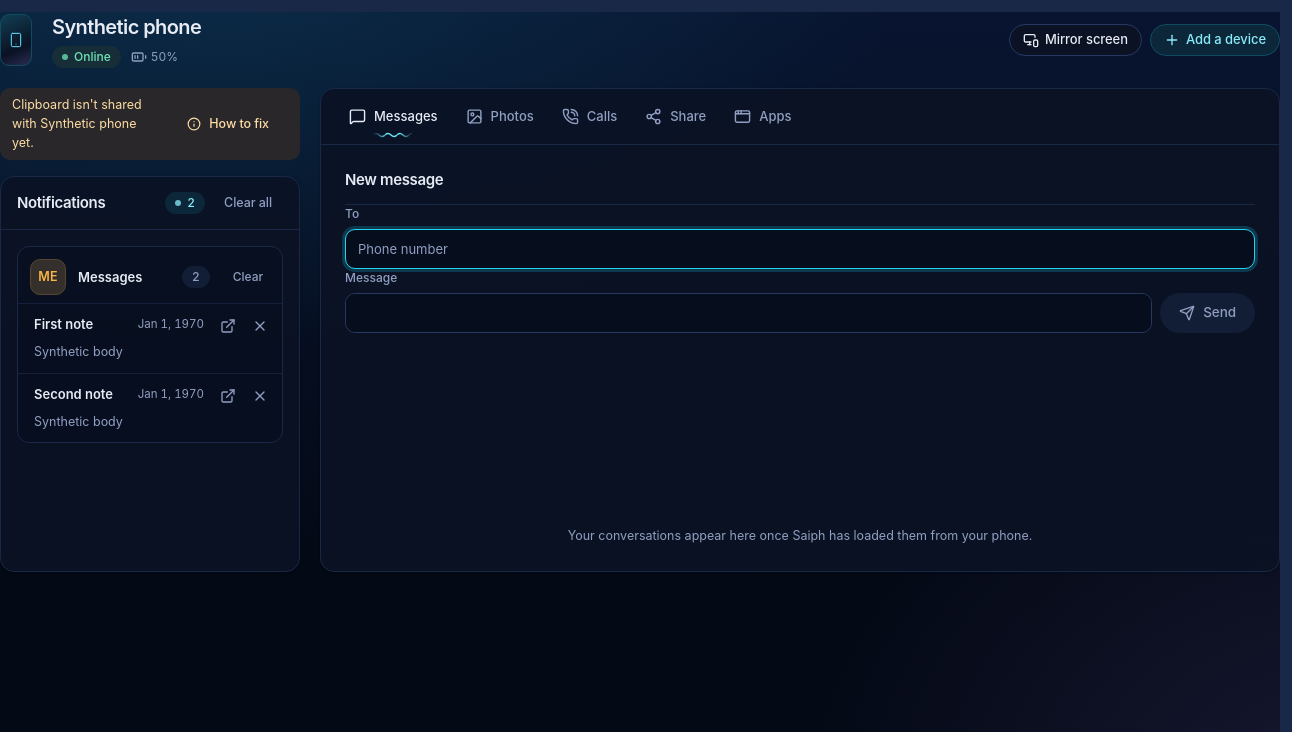
Test: Dismissing notifications › waits for Undo before dismissing on every device
Click the button named "Dismiss First note": click(260, 326) [244,310,276,342]
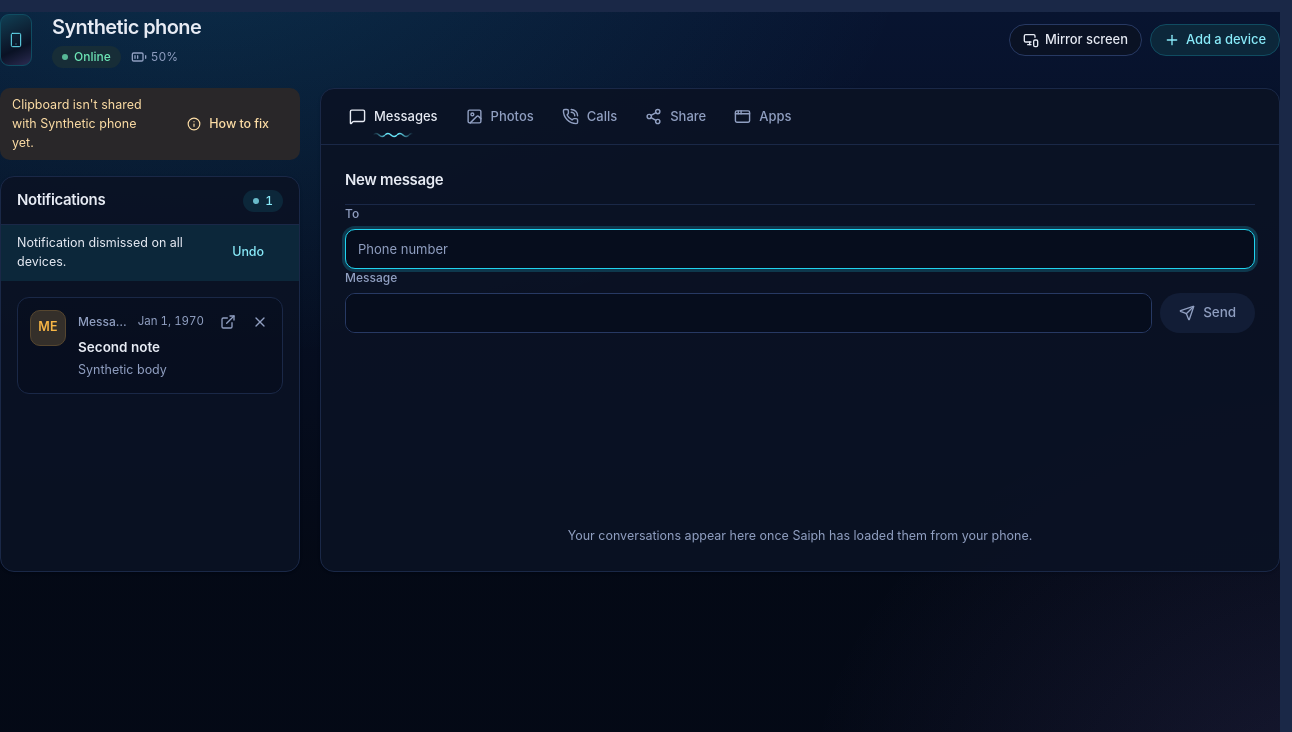
Expected: the heading "First note" is gone
Expected: the message shows "Notification dismissed on all devices.", [1,225,299,281]
Click the button "Undo": click(248, 253) [213,233,283,273]
Wait 6000 ms
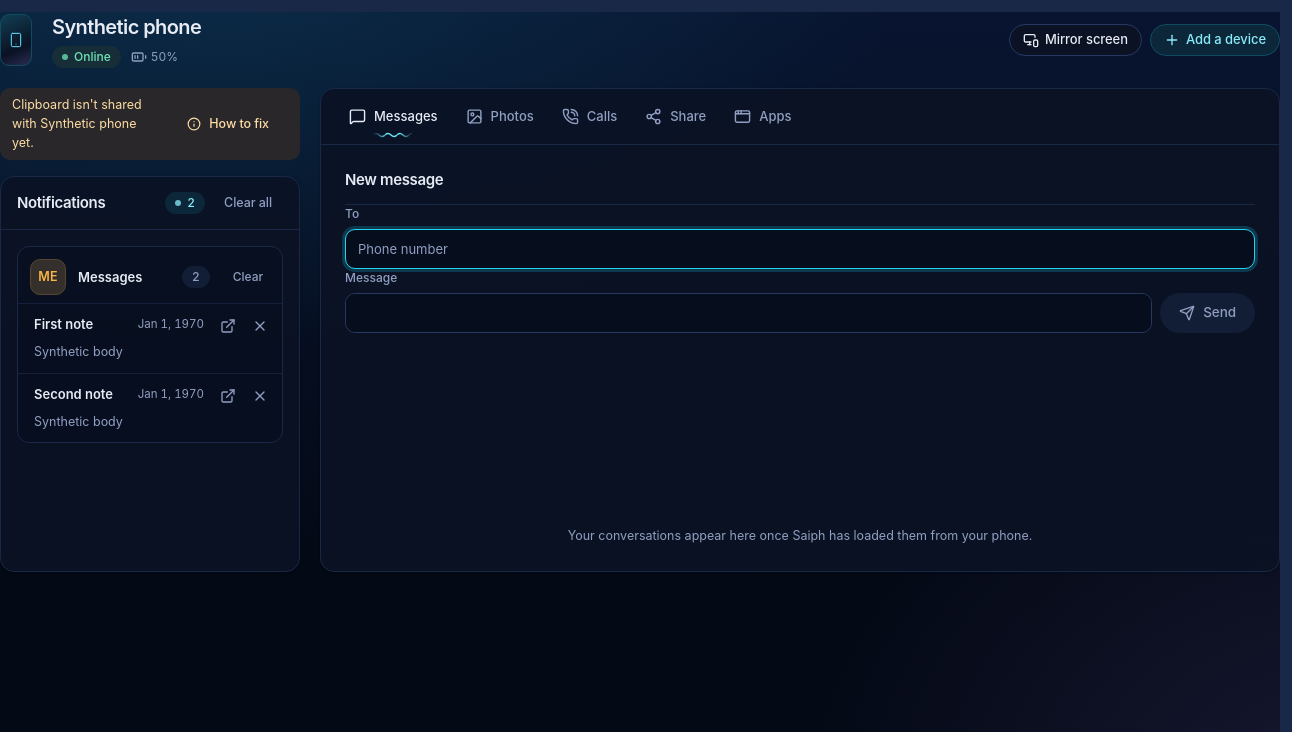
Expected: the heading "First note" is shown, [34,316,93,332]
